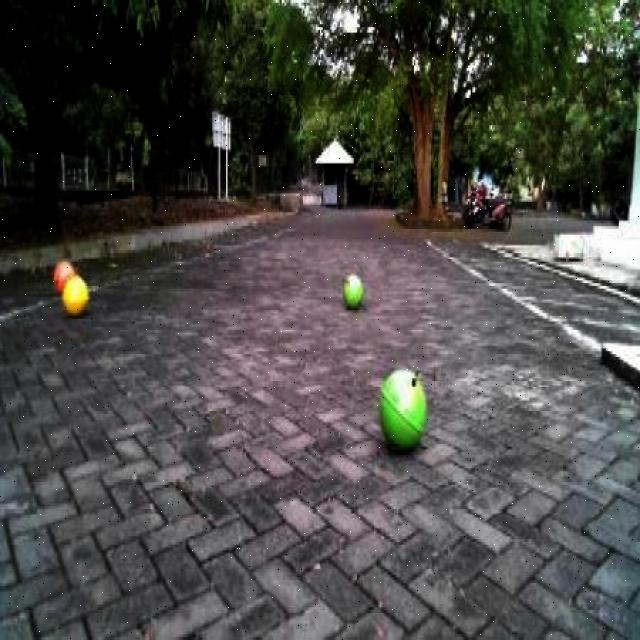buoy: (374, 360, 432, 464), (59, 267, 92, 319), (339, 265, 365, 315), (51, 252, 76, 296)
